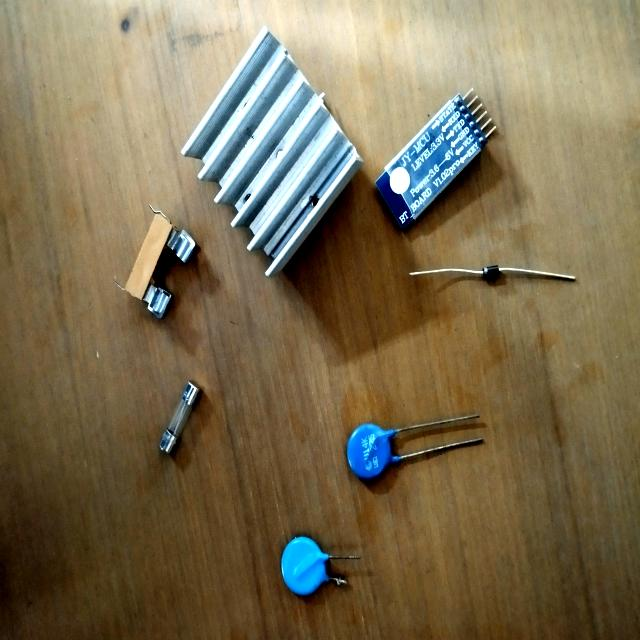capacitor: (347, 417, 480, 494), (281, 537, 326, 595)
